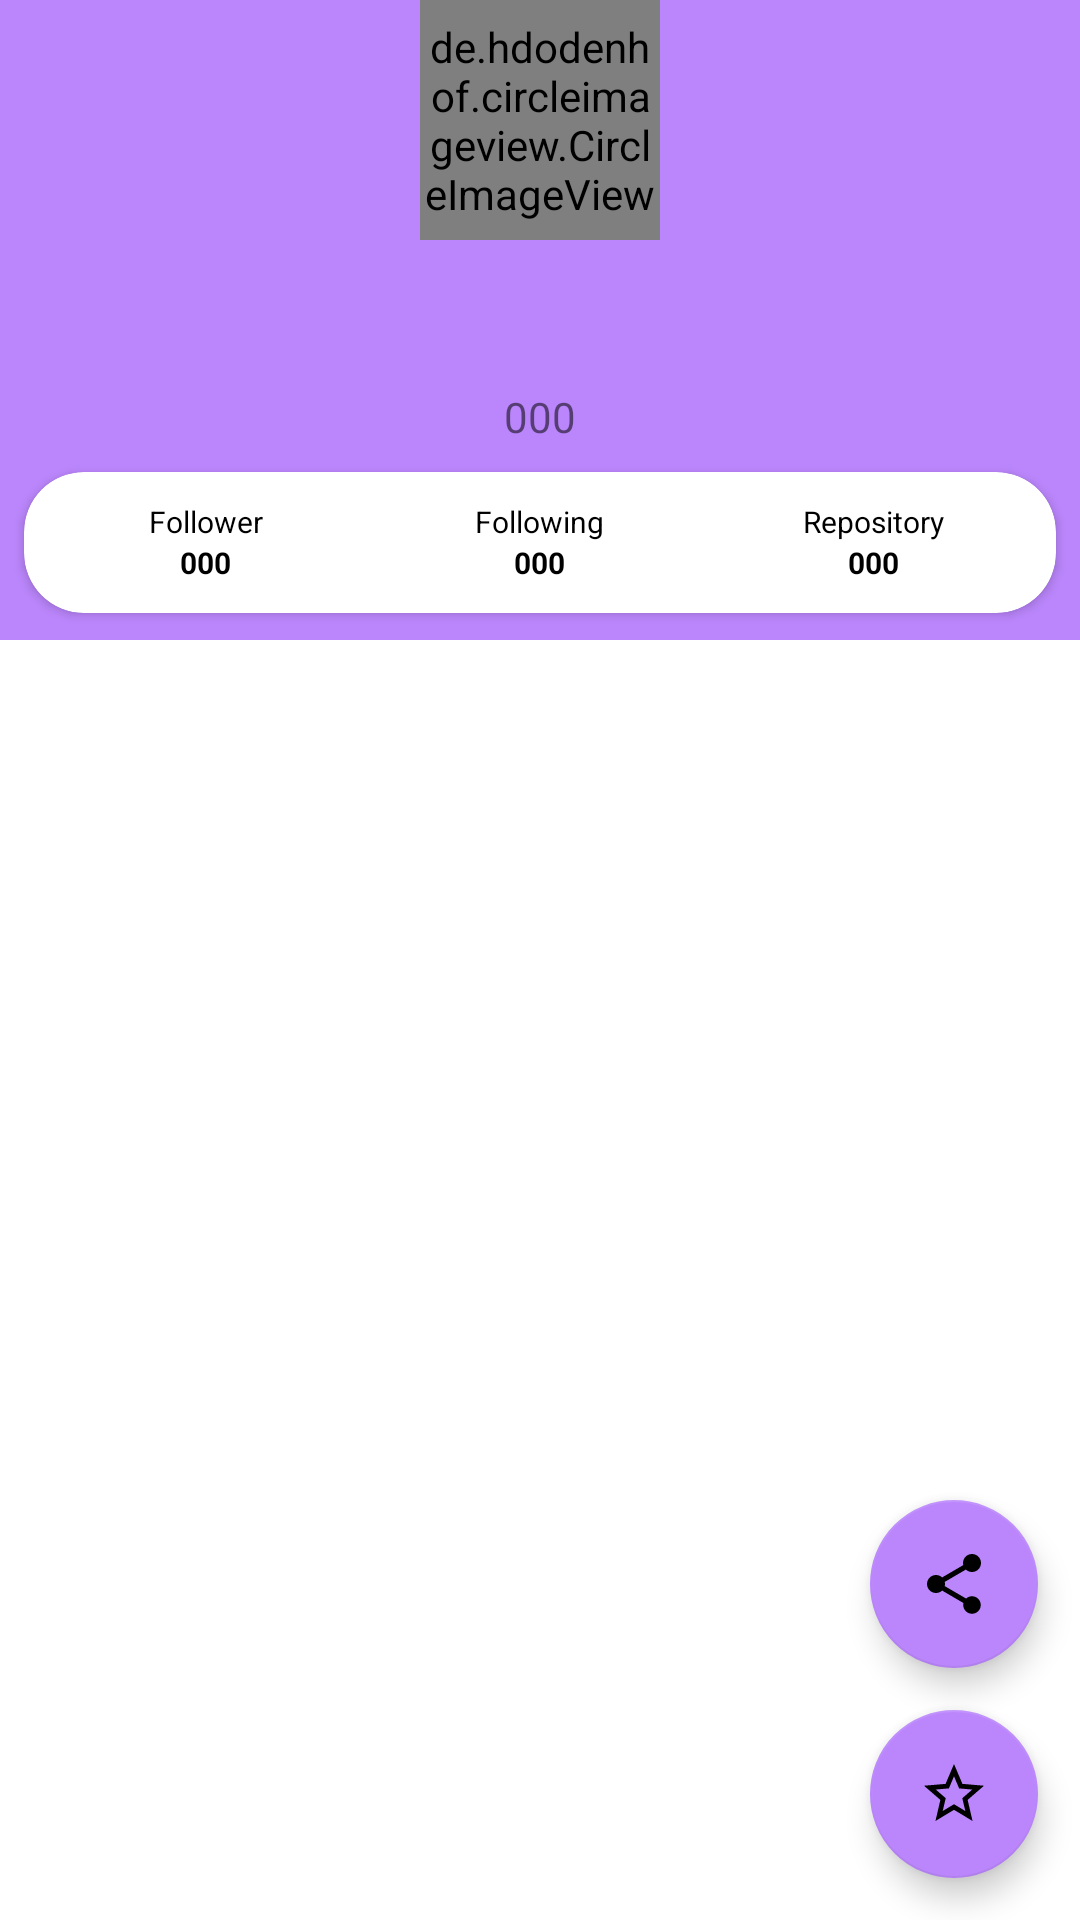

Point at icon controls on the screen. Image size 1080w x 1920h, points as (x=x, y=y).
share: (x=954, y=1584)
star: (x=954, y=1794)
